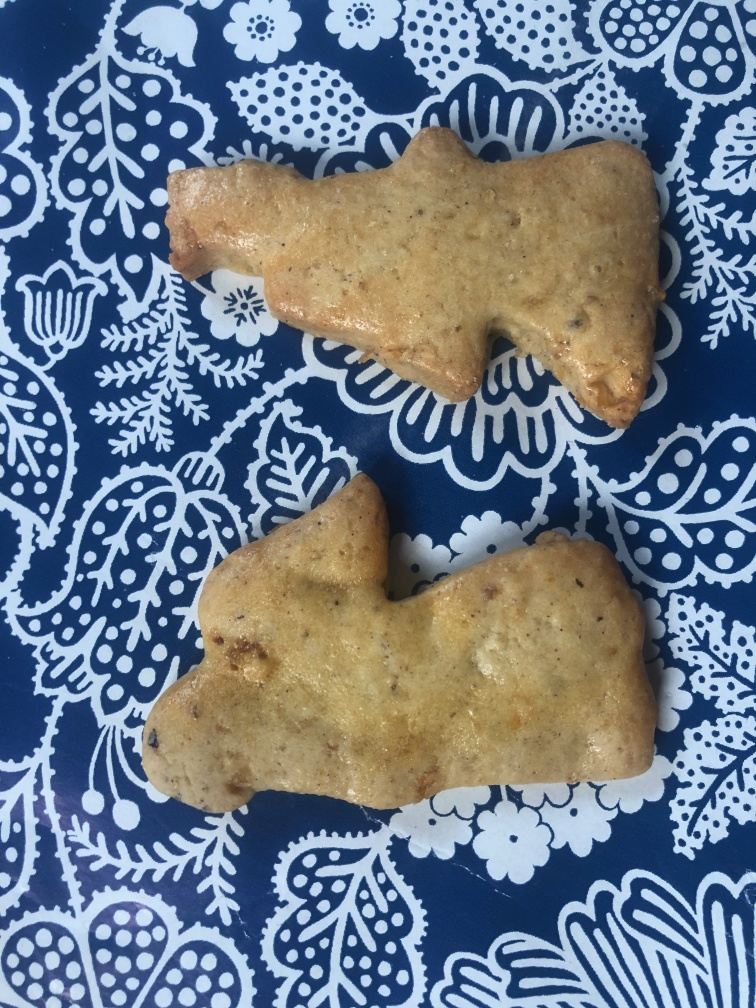angel: (135, 468, 660, 819)
king mage: (161, 124, 658, 432)
